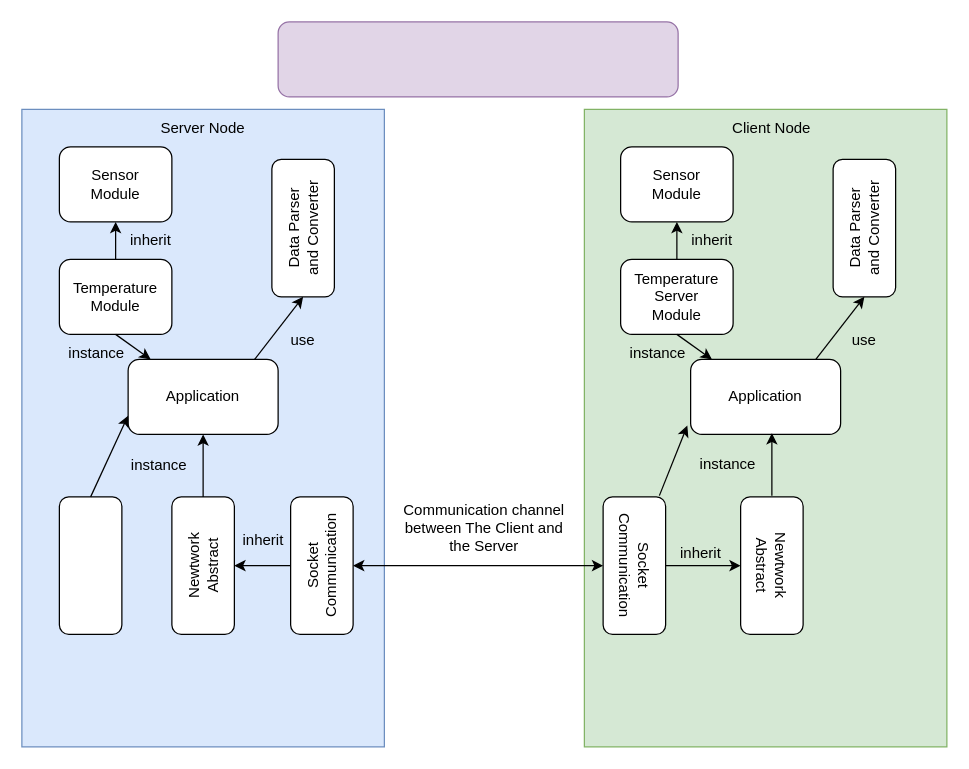
Some shapes in this 969 by 769 pixel diagram are drawn without their labels. The shapes that lost their labels are listed below. From the top down, each one's box as (x1, y1, x2, y2) in pixels, then its label:
(277, 21, 678, 97): Component Architecture
(58, 496, 122, 634): Clients Module
